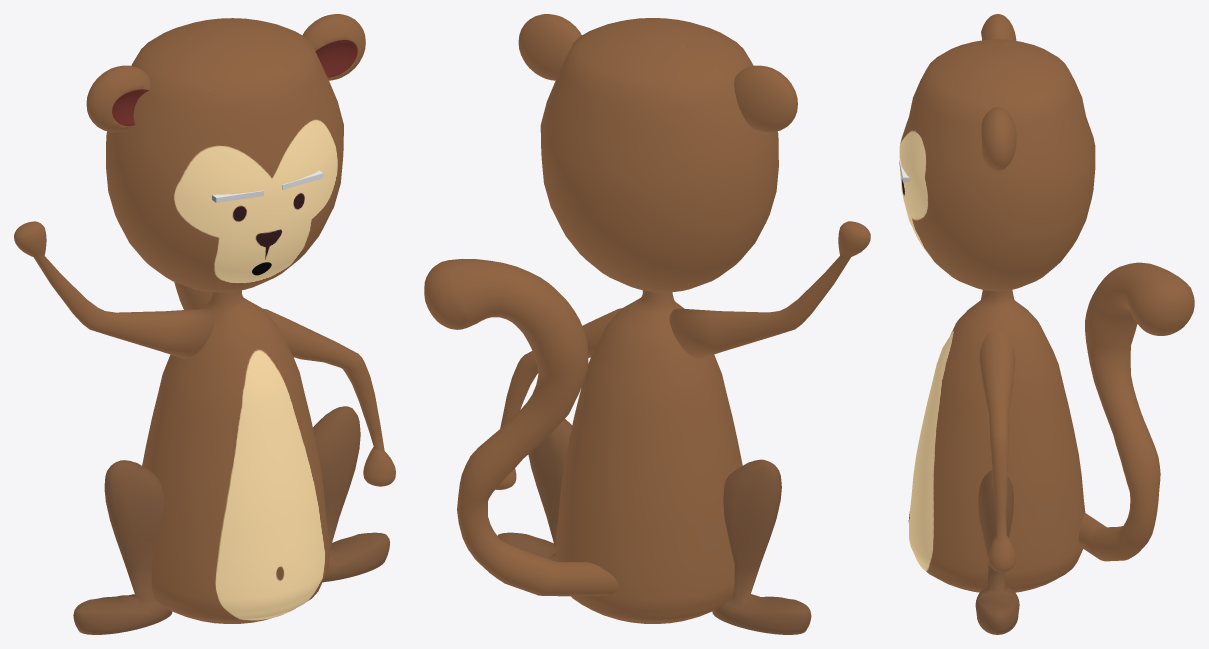
The model's file is Monkey.glb.
The picture shows the model from 3 angles, left to right: view 1: azimuth 30°, elevation 25°; view 2: azimuth 150°, elevation 25°; view 3: azimuth 270°, elevation 25°; orthographic projection. The views are drawn at different scales.
Visible parts, largest first — view 1: Sphere.002, Sphere, Sphere.001, Cylinder, Sphere.004, Cylinder.001, Cylinder.002; view 2: Sphere.002, Sphere, Cylinder.002, Sphere.001, Cylinder, Sphere.004, Cylinder.001; view 3: Sphere.002, Sphere, Cylinder.002, Cylinder.001, Sphere.001, Sphere.004.
Part boxes in pixels (bbox=[...]): Sphere.002: bbox=[106, 18, 343, 292]; Sphere: bbox=[142, 290, 329, 623]; Sphere.001: bbox=[73, 406, 389, 634]; Cylinder: bbox=[14, 221, 215, 358]; Sphere.004: bbox=[86, 14, 365, 132]; Cylinder.001: bbox=[263, 308, 395, 486]; Cylinder.002: bbox=[174, 282, 211, 309]; Sphere.002: bbox=[540, 18, 778, 292]; Sphere: bbox=[555, 290, 742, 623]; Cylinder.002: bbox=[424, 258, 618, 596]; Sphere.001: bbox=[497, 419, 811, 634]; Cylinder: bbox=[669, 221, 870, 358]; Sphere.004: bbox=[518, 14, 797, 132]; Cylinder.001: bbox=[496, 308, 622, 489]; Sphere.002: bbox=[899, 39, 1095, 291]; Sphere: bbox=[908, 290, 1085, 592]; Cylinder.002: bbox=[1078, 262, 1194, 561]; Cylinder.001: bbox=[979, 330, 1015, 572]; Sphere.001: bbox=[975, 470, 1019, 634]; Sphere.004: bbox=[981, 14, 1016, 170].
Bounding box in the file's own units: 2.31 × 3.33 × 1.72.
Materials: 9 (3 with a texture image).
